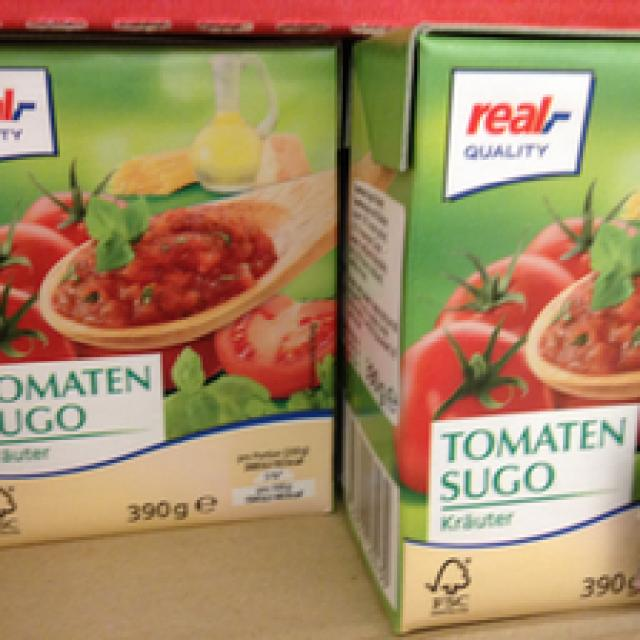groceries: (334, 26, 637, 634), (0, 34, 337, 546)
